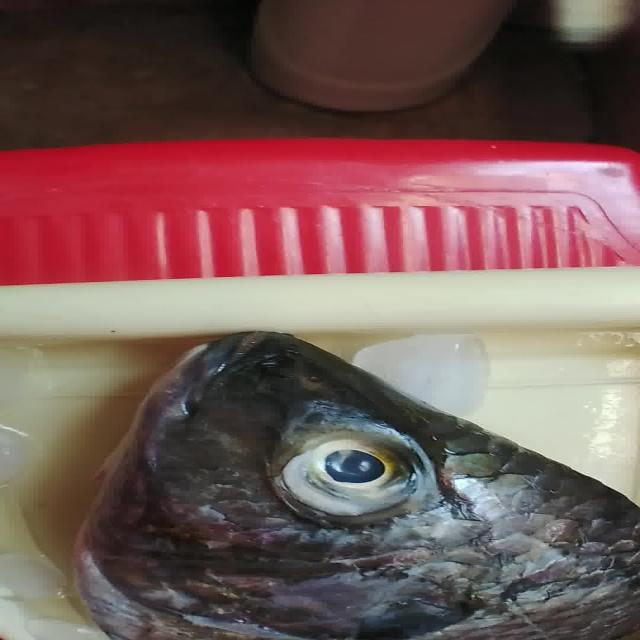Fresh: (225, 401, 500, 535)
